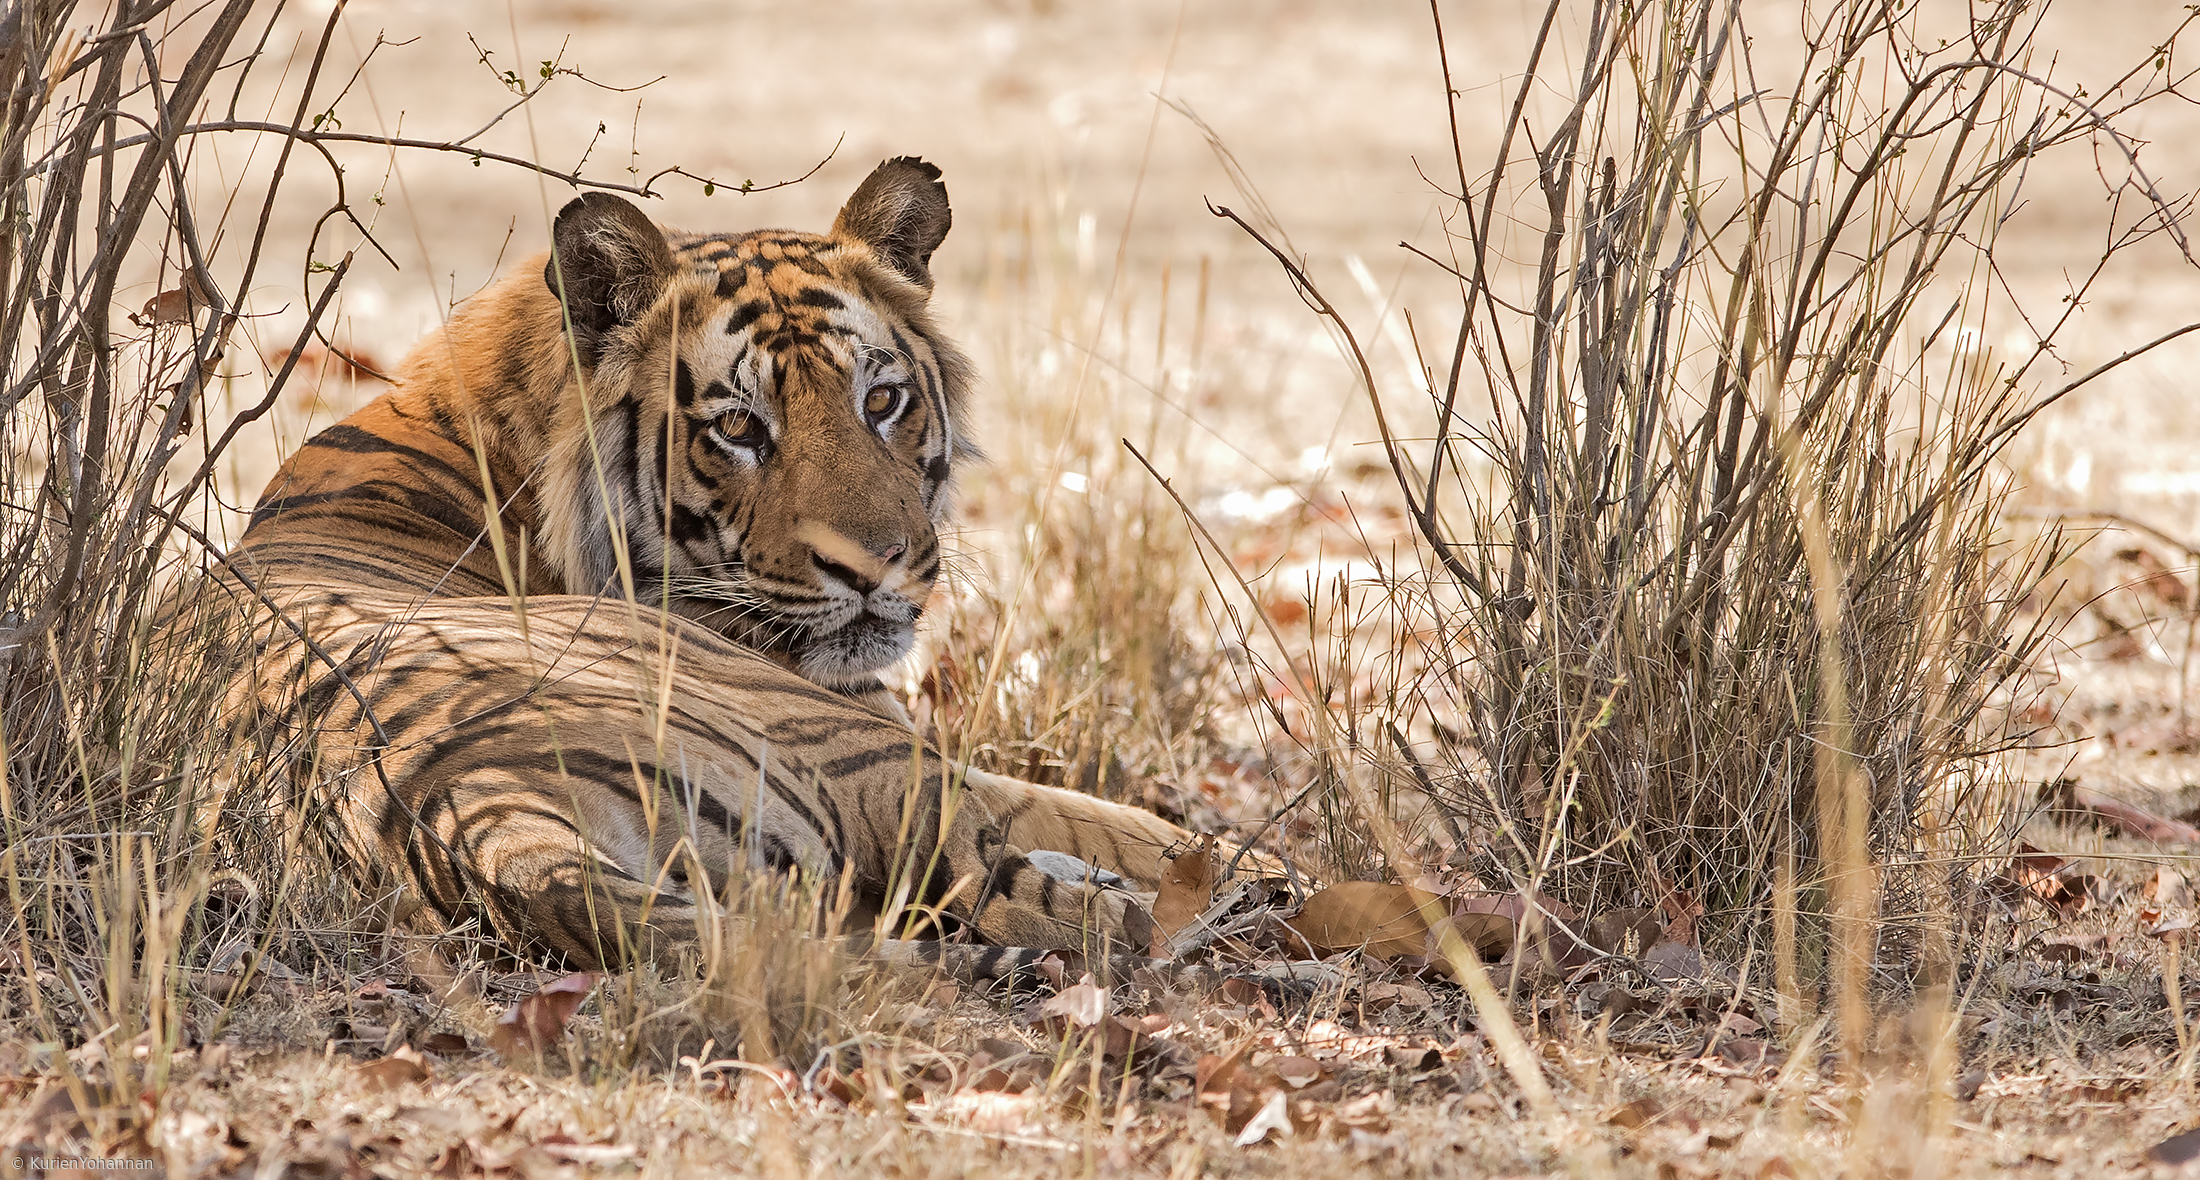tiger: (132, 143, 1288, 1051)
